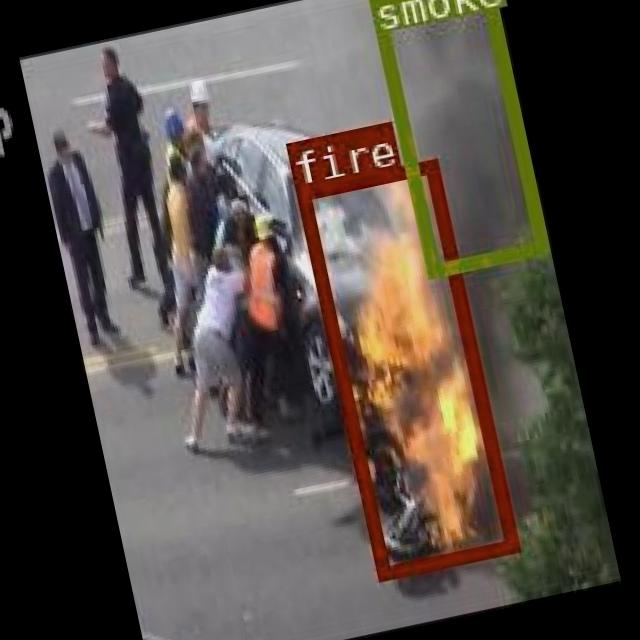fire: (292, 158, 518, 580)
smoke: (364, 0, 546, 274)
